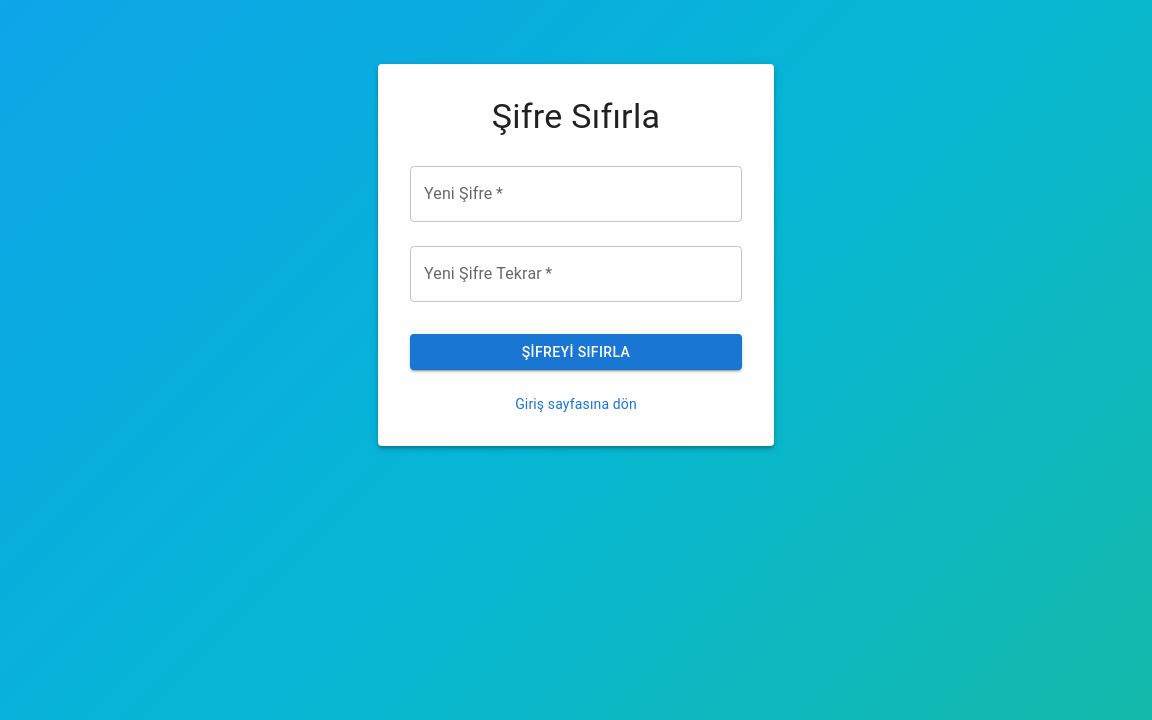
Test: ResetPassword Component › should show error when password is too short
Type "123" into the password field labelled "Yeni Şifre *" at (576, 194), box [410,166,742,222]
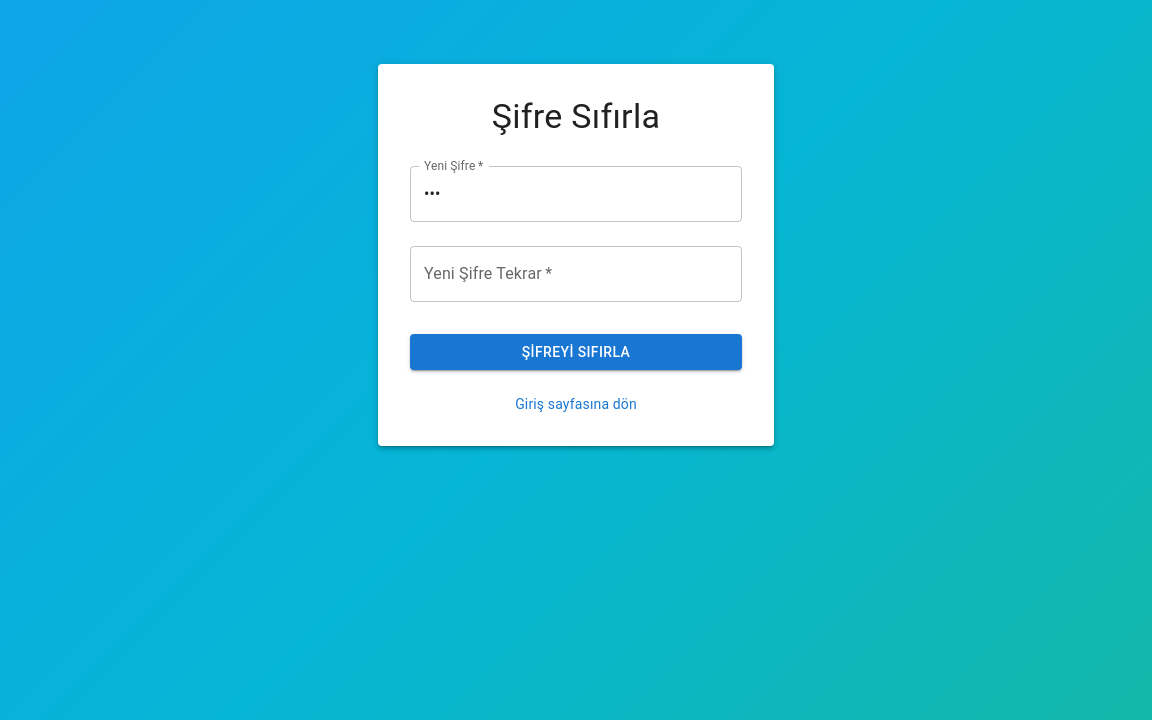
Type "123" into the password field with id "confirmPassword" at (576, 274), box [410,246,742,302]
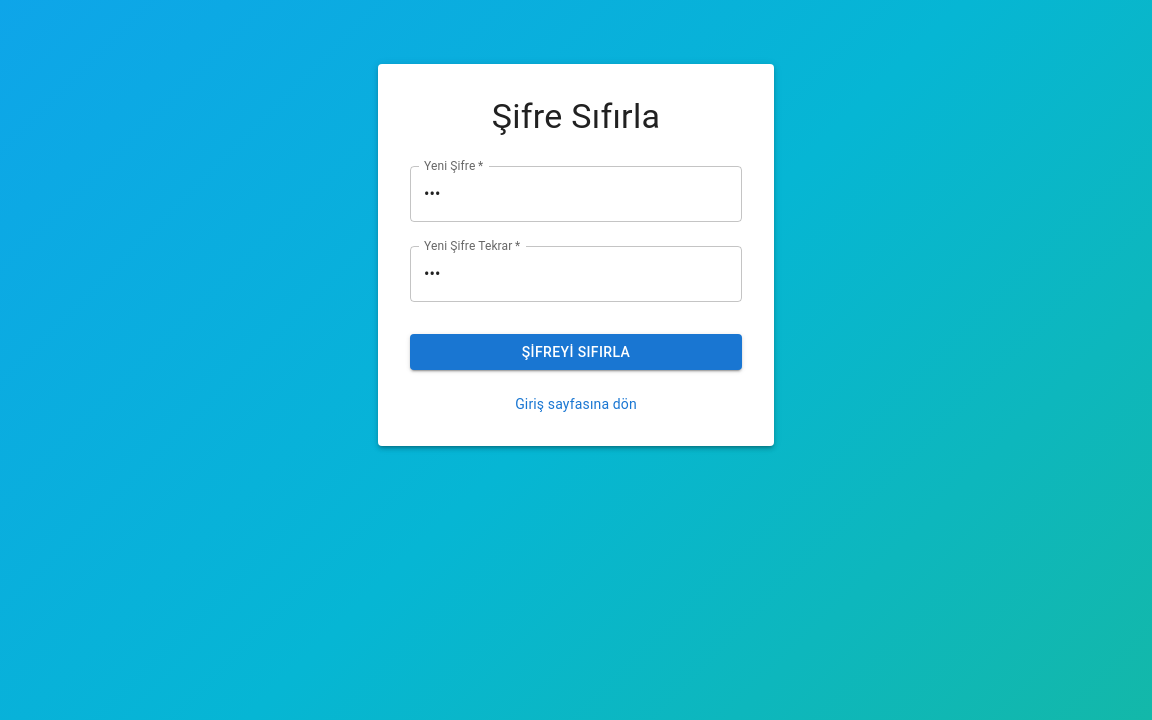
Click the button "Şifreyi Sıfırla" at (576, 352), box [410,334,742,370]
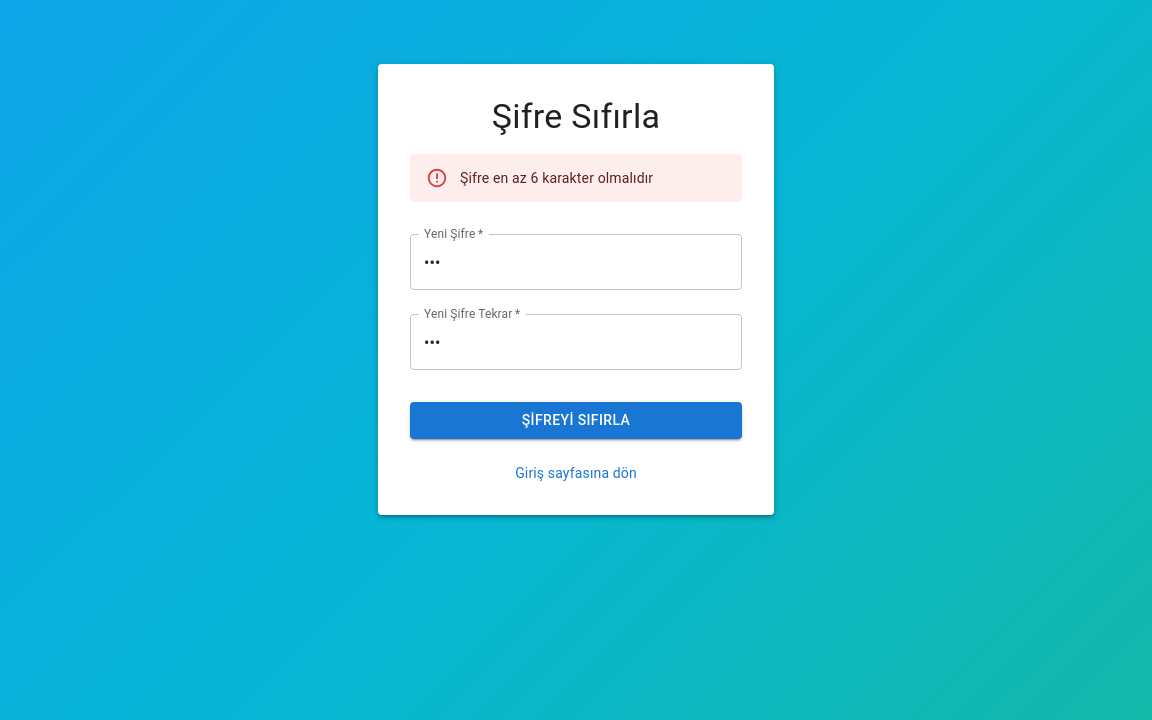
Expected: the text "Şifre en az 6 karakter olmalıdır" is shown, [460,170,653,186]
